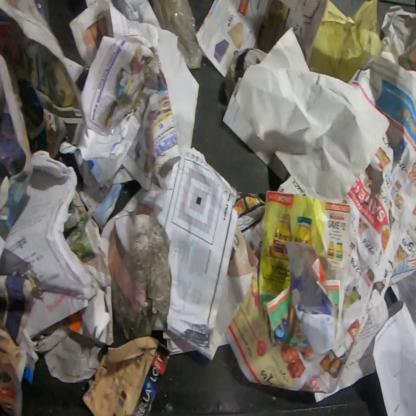cardboard: (0, 148, 100, 339)
soft_plastic: (108, 207, 172, 340), (152, 0, 203, 69), (34, 0, 52, 27)
